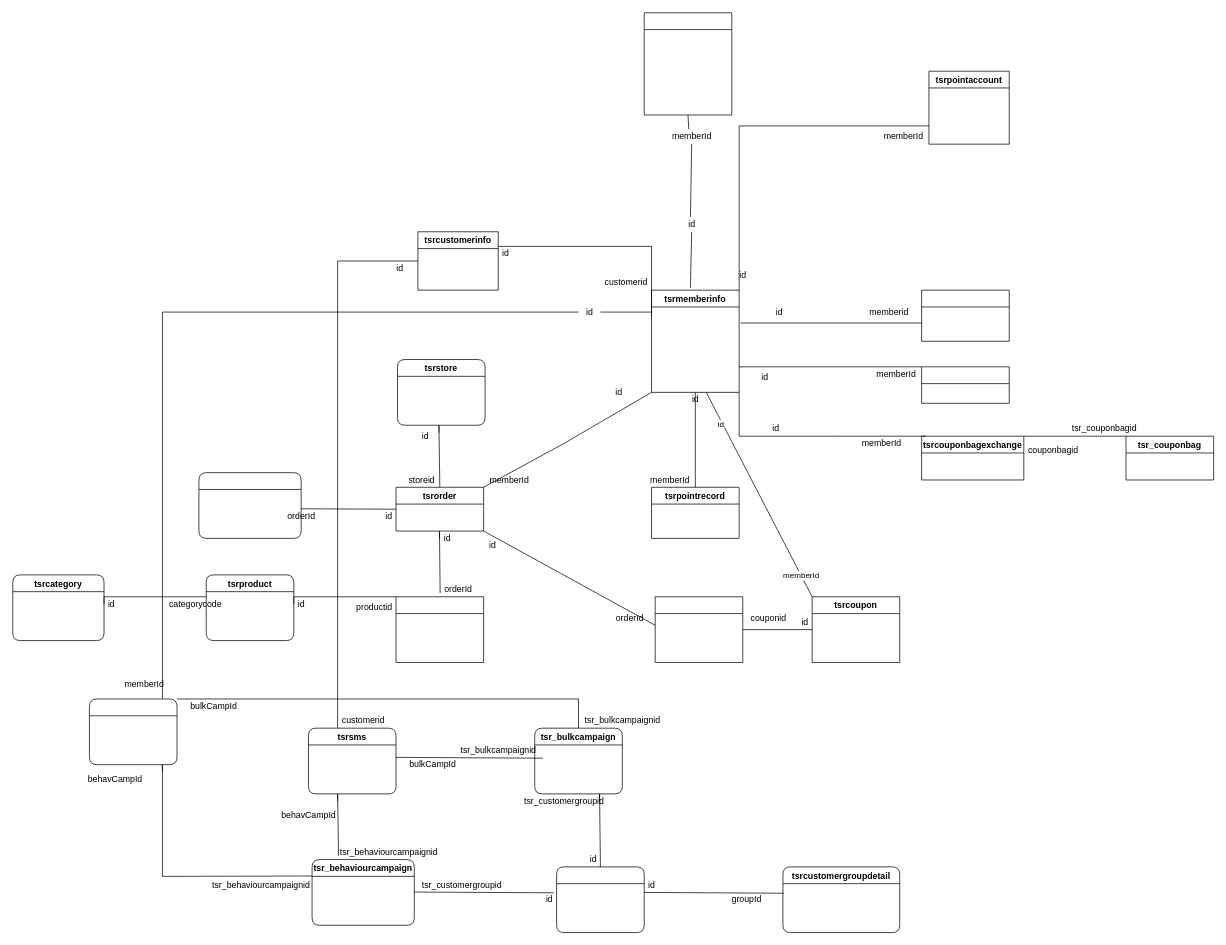
The diagram is 1226 pixels wide and 945 high, and some of its shapes have lost their labels. Each missing label, with the box of its shape:
tsrbehaviorrecord: (643, 12, 732, 115)
tsrcustomergroup: (556, 866, 644, 933)
tsrorderdetail: (395, 596, 484, 662)
tsrorderpayment: (654, 596, 743, 662)
tsrthirdinfo: (921, 289, 1009, 341)
tsrtierrecord: (921, 366, 1009, 403)
tsrtransactiondiscount: (198, 472, 301, 538)
tsrwechat: (89, 698, 177, 765)
